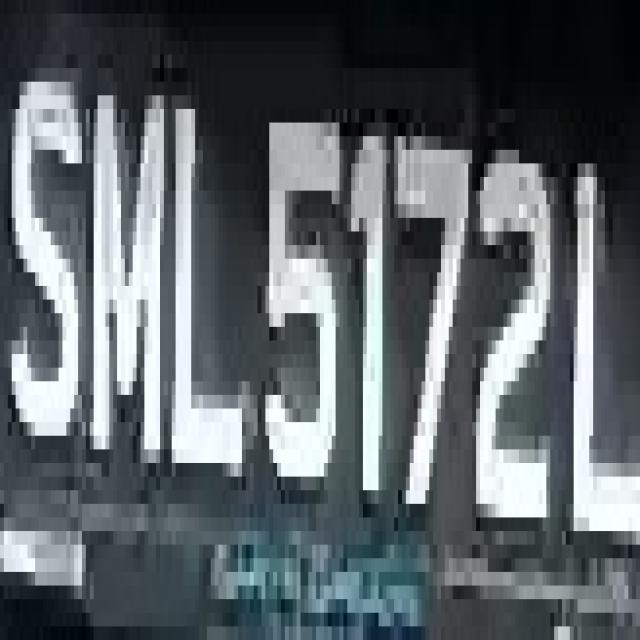1: (340, 95, 394, 545)
2: (464, 109, 562, 572)
5: (253, 41, 339, 531)
7: (378, 82, 464, 558)
L: (168, 68, 246, 531), (562, 122, 640, 572)
M: (82, 54, 172, 504)
S: (8, 55, 82, 490)
